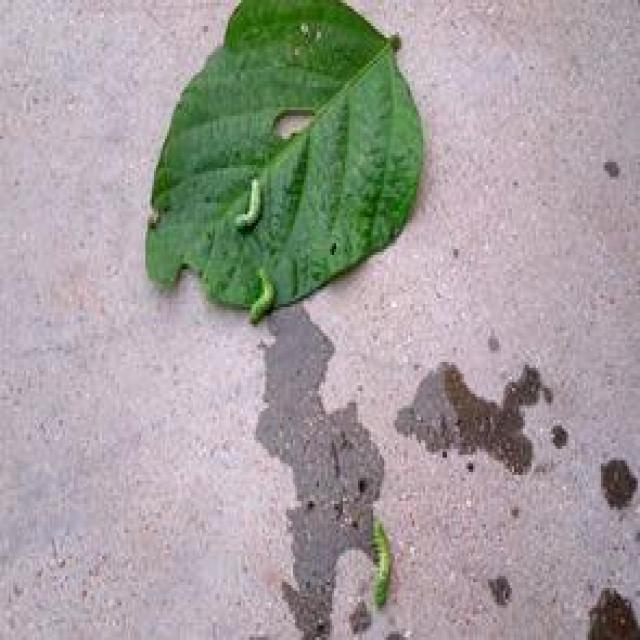BeetArmyWorm-Larva-: (367, 515, 400, 614), (244, 260, 282, 334), (231, 176, 266, 232)
